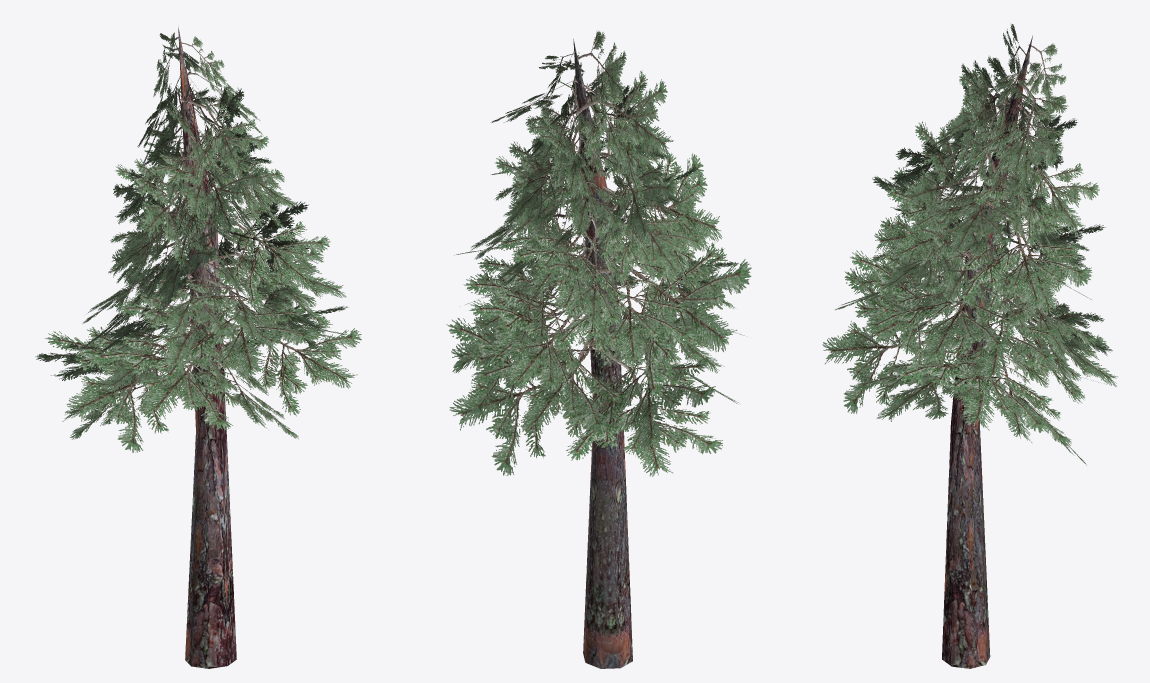
File: fp_pine_2.glb
3 renders of one model, left to right at view 1: azimuth 30°, elevation 25°; view 2: azimuth 150°, elevation 25°; view 3: azimuth 270°, elevation 25°, orthographic. The views are drawn at different scales.
Parts seen in each view (by area): view 1: _MeshInstance3D_36, _MeshInstance3D_35; view 2: _MeshInstance3D_36, _MeshInstance3D_35; view 3: _MeshInstance3D_36, _MeshInstance3D_35.
Boxes of the visible parts, left/top/right/bottom form: _MeshInstance3D_36: left=35, top=32, right=361, bottom=452; _MeshInstance3D_35: left=178, top=25, right=236, bottom=668; _MeshInstance3D_36: left=446, top=30, right=751, bottom=476; _MeshInstance3D_35: left=573, top=39, right=632, bottom=668; _MeshInstance3D_36: left=822, top=24, right=1117, bottom=465; _MeshInstance3D_35: left=942, top=35, right=1032, bottom=668.
Size of the model in its own units: 3.19 by 6.04 by 2.78.
Materials: 2 (2 with a texture image).
